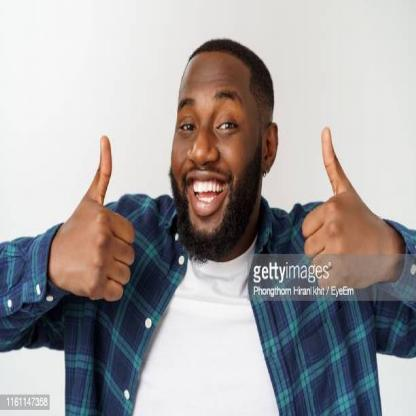Thumbs-Up: (265, 106, 406, 328), (41, 126, 155, 330)
